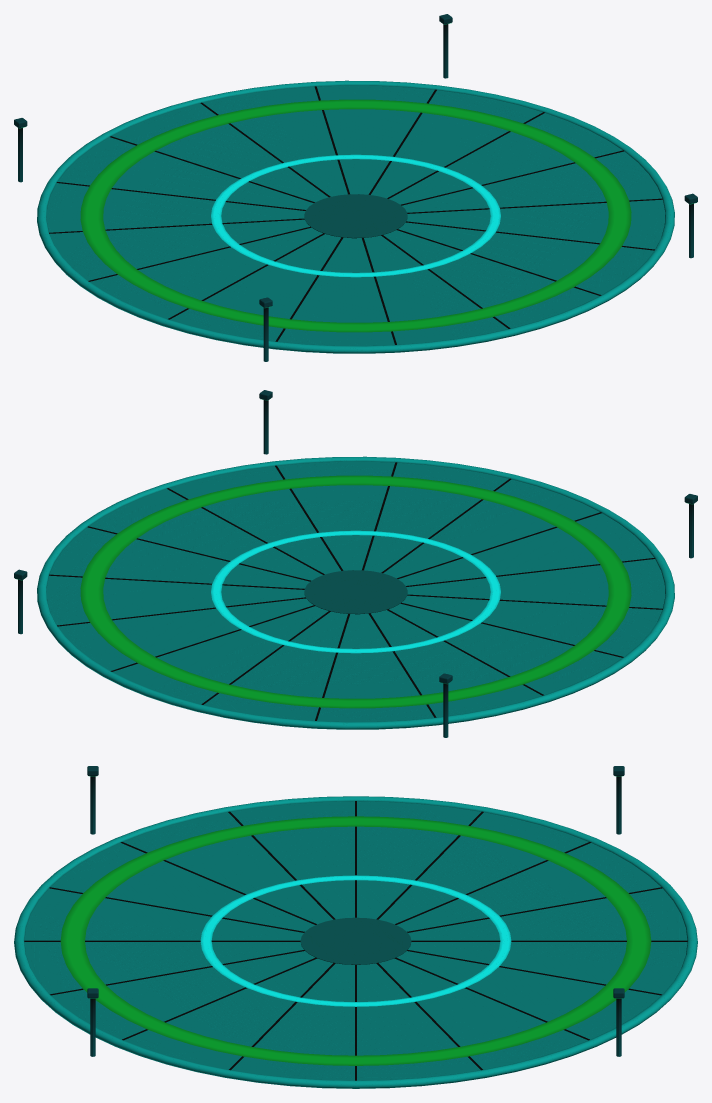
File: landing_pad.glb
3 renders of one model, top to bottom at view 1: azimuth 30°, elevation 25°; view 2: azimuth 150°, elevation 25°; view 3: azimuth 270°, elevation 25°, orthographic. The views are drawn at different scales.
Parts seen in each view (by area): view 1: landing_pad; view 2: landing_pad; view 3: landing_pad.
Boxes of the visible parts, bbox=[...] form: landing_pad: bbox=[14, 14, 697, 361]; landing_pad: bbox=[14, 390, 697, 737]; landing_pad: bbox=[14, 766, 697, 1088].
Size of the model in its own units: 6.16 by 0.68 by 6.16.
Materials: 1 (1 with a texture image).
